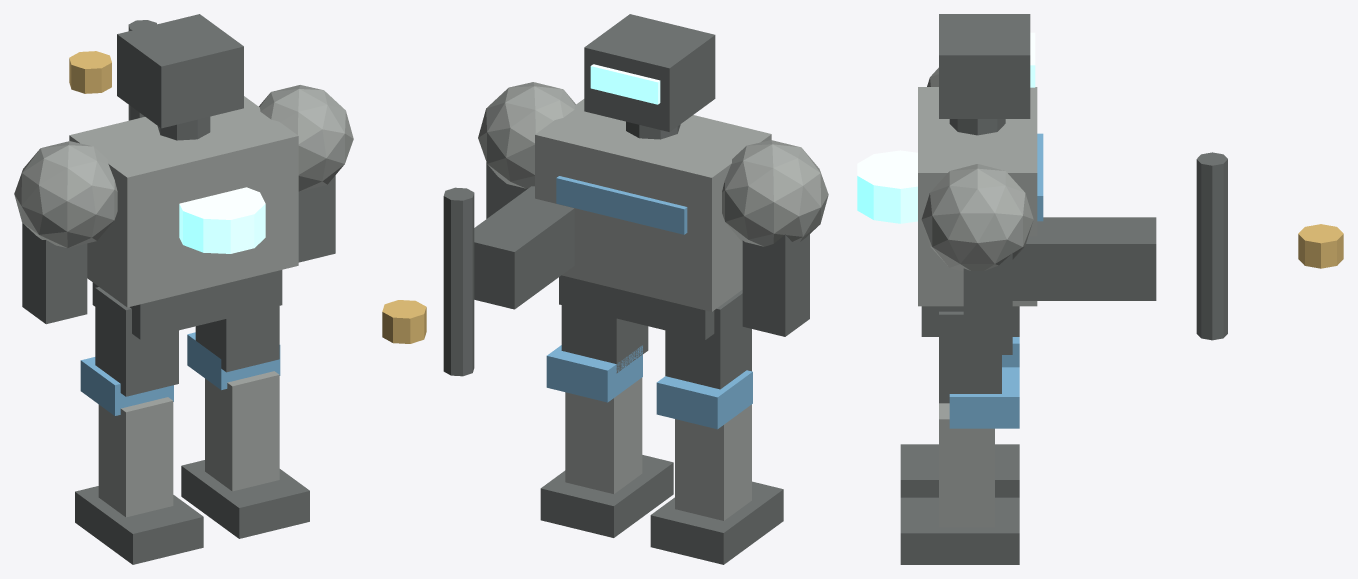
The model's file is hx_infantry_v1.glb.
The picture shows the model from 3 angles, left to right: view 1: azimuth 30°, elevation 25°; view 2: azimuth 150°, elevation 25°; view 3: azimuth 270°, elevation 25°; orthographic projection. The views are drawn at different scales.
Parts seen in each view (by area): view 1: torso, head, shoulder_L, shin_L, shin_R, foot_L, foot_R, shoulder_R, thigh_L, pelvis, arm_L, reactor (+6 smaller); view 2: torso, head, rifle_body, shoulder_L, shin_R, shin_L, foot_R, foot_L, arm_L, shoulder_R, rifle_barrel, thigh_L (+9 smaller); view 3: rifle_body, torso, head, shoulder_R, foot_R, rifle_barrel, shin_R, arm_R, reactor, thigh_R, foot_L, knee_R (+4 smaller).
Part boxes in pixels (box(x1,y1,x2,y2)): torso: box(69, 96, 298, 307); head: box(117, 14, 243, 128); shoulder_L: box(14, 141, 117, 247); shin_L: box(98, 397, 173, 517); shin_R: box(205, 371, 279, 491); foot_L: box(75, 486, 203, 564); foot_R: box(181, 460, 309, 538); shoulder_R: box(259, 85, 353, 191); thigh_L: box(95, 287, 178, 396); pelvis: box(92, 270, 282, 339); arm_L: box(22, 223, 87, 324); reactor: box(179, 187, 265, 253); torso: box(535, 99, 771, 311); head: box(584, 14, 715, 131); rifle_body: box(474, 186, 574, 309); shoulder_L: box(722, 140, 828, 246); shin_R: box(565, 377, 642, 493); shin_L: box(675, 404, 751, 520); foot_R: box(540, 455, 673, 537); foot_L: box(650, 481, 783, 564); arm_L: box(742, 234, 809, 336); shoulder_R: box(478, 82, 575, 188); rifle_barrel: box(443, 187, 474, 376); thigh_L: box(665, 290, 751, 389); rifle_body: box(1012, 217, 1156, 300); torso: box(918, 87, 1037, 306); head: box(939, 14, 1030, 118); shoulder_R: box(921, 164, 1033, 271); foot_R: box(900, 497, 1019, 564); rifle_barrel: box(1196, 152, 1227, 340); shin_R: box(939, 403, 994, 527); arm_R: box(963, 252, 1012, 354); reactor: box(857, 150, 917, 223); thigh_R: box(939, 311, 1001, 403); foot_L: box(900, 444, 1019, 497); knee_R: box(949, 367, 1019, 428).
Size of the model in its own units: 1.1 by 1.53 by 1.39.
